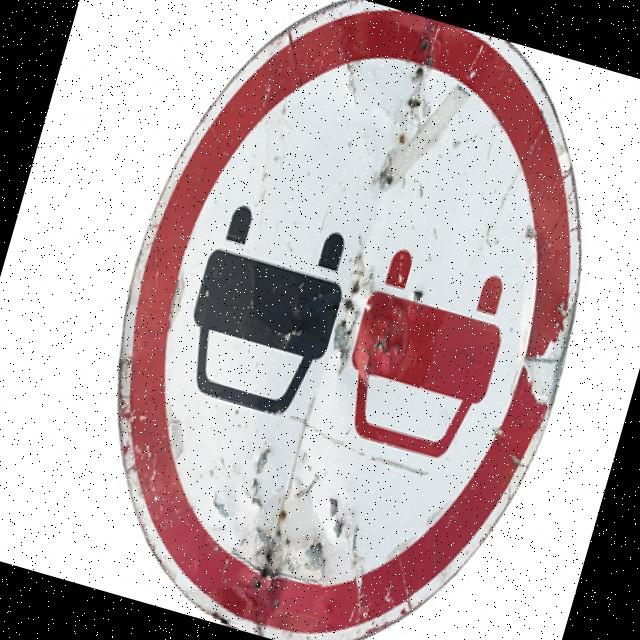no_passing: (36, 0, 640, 640)
